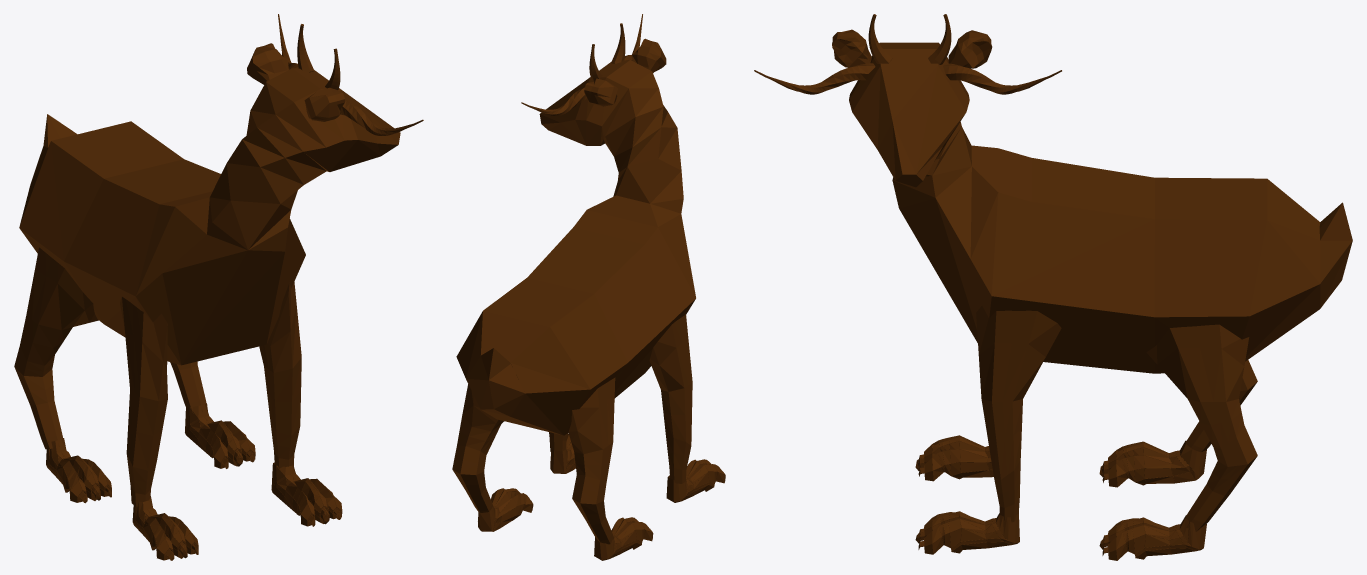
Rendered from Final_Deer.fbx.
3 renders of one model, left to right at view 1: azimuth 30°, elevation 25°; view 2: azimuth 150°, elevation 25°; view 3: azimuth 270°, elevation 25°, orthographic. The views are drawn at different scales.
Parts seen in each view (by area): view 1: Cube_2; view 2: Cube_2; view 3: Cube_2.
Part boxes in pixels (<box>): Cube_2: <box>14,14,423,560</box>; Cube_2: <box>452,14,725,560</box>; Cube_2: <box>754,14,1352,560</box>.
Size of the model in its own units: 159 by 333 by 338.
